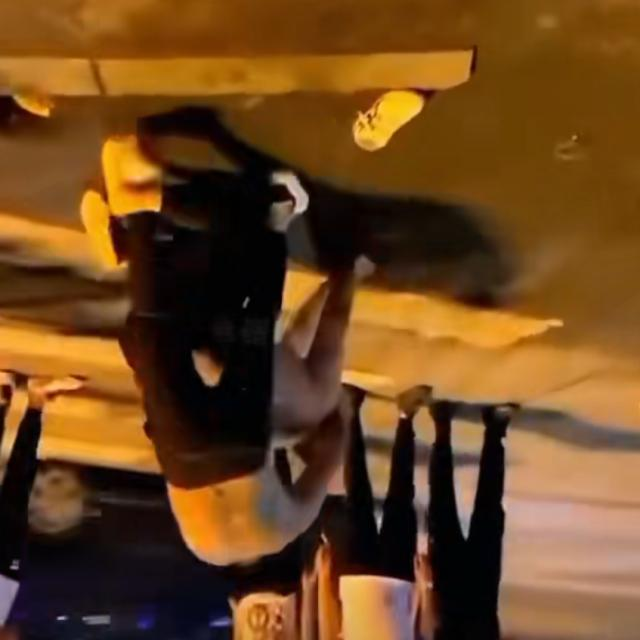fight: (127, 152, 369, 589)
nofight: (305, 384, 426, 640), (413, 397, 519, 639)
